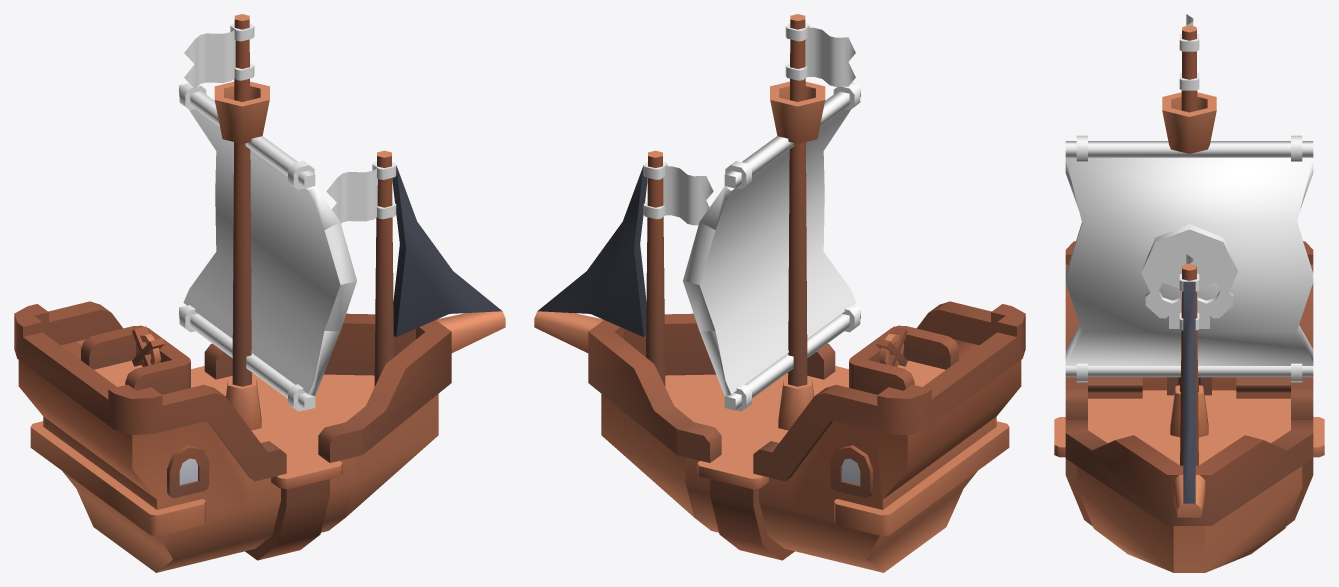
File: cutter.glb
3 renders of one model, left to right at view 1: azimuth 30°, elevation 25°; view 2: azimuth 150°, elevation 25°; view 3: azimuth 270°, elevation 25°, orthographic.
Visible parts, largest first — view 1: ship-pirate-small, sail-a, flag-b, flag-a; view 2: ship-pirate-small, sail-a, flag-b, flag-a; view 3: sail-a, ship-pirate-small, flag-b, flag-a.
Part boxes in pixels (x1=…): ship-pirate-small: x1=14, y1=14, x2=505, y2=572; sail-a: x1=179, y1=83, x2=356, y2=411; flag-b: x1=184, y1=23, x2=254, y2=88; flag-a: x1=326, y1=161, x2=396, y2=223; ship-pirate-small: x1=534, y1=14, x2=1025, y2=572; sail-a: x1=683, y1=83, x2=860, y2=411; flag-b: x1=785, y1=23, x2=855, y2=86; flag-a: x1=643, y1=161, x2=713, y2=225; sail-a: x1=1065, y1=135, x2=1313, y2=382; ship-pirate-small: x1=1054, y1=25, x2=1324, y2=572; flag-b: x1=1179, y1=14, x2=1199, y2=90; flag-a: x1=1179, y1=254, x2=1199, y2=330.
Size of the model in its own units: 0.7 by 0.7926 by 0.3818.
Materials: 2 (1 with a texture image).
